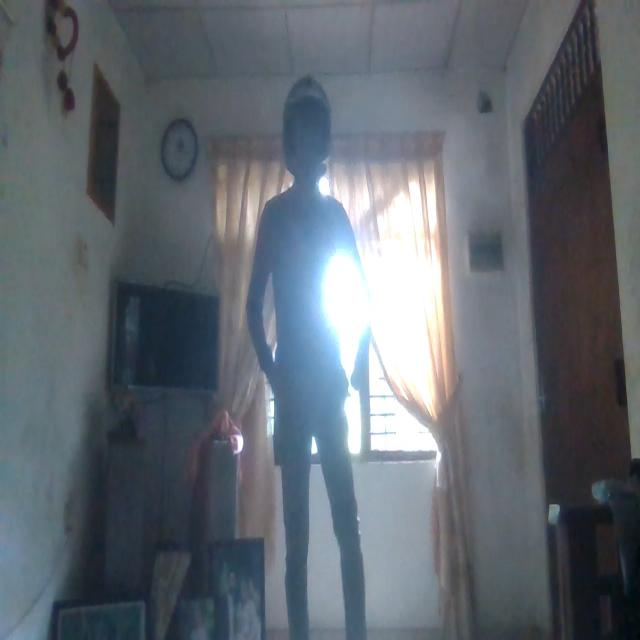Helmet_Wearer: (274, 79, 338, 191)
Person: (245, 76, 381, 640)
